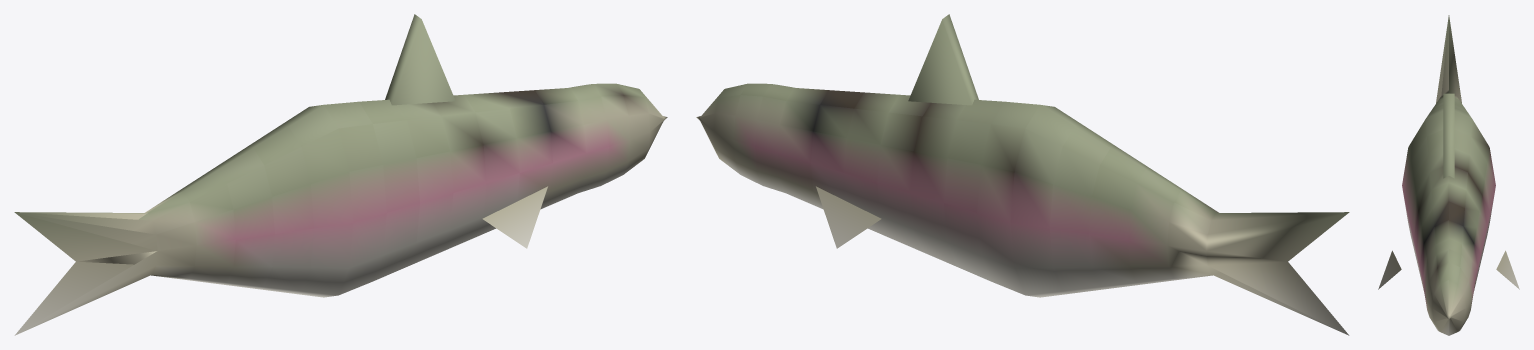
The model's file is Trout.glb.
3 views of the same model, side by side, from view 1: azimuth 30°, elevation 25°; view 2: azimuth 150°, elevation 25°; view 3: azimuth 270°, elevation 25° (orthographic). The views are drawn at different scales.
Visible parts, largest first — view 1: Trout; view 2: Trout; view 3: Trout.
Part boxes in pixels (box(x1,y1,x2,y2)): Trout: box(14, 14, 667, 335); Trout: box(696, 14, 1349, 335); Trout: box(1378, 15, 1519, 335).
Size of the model in its own units: 1.27 by 0.479 by 0.3.
